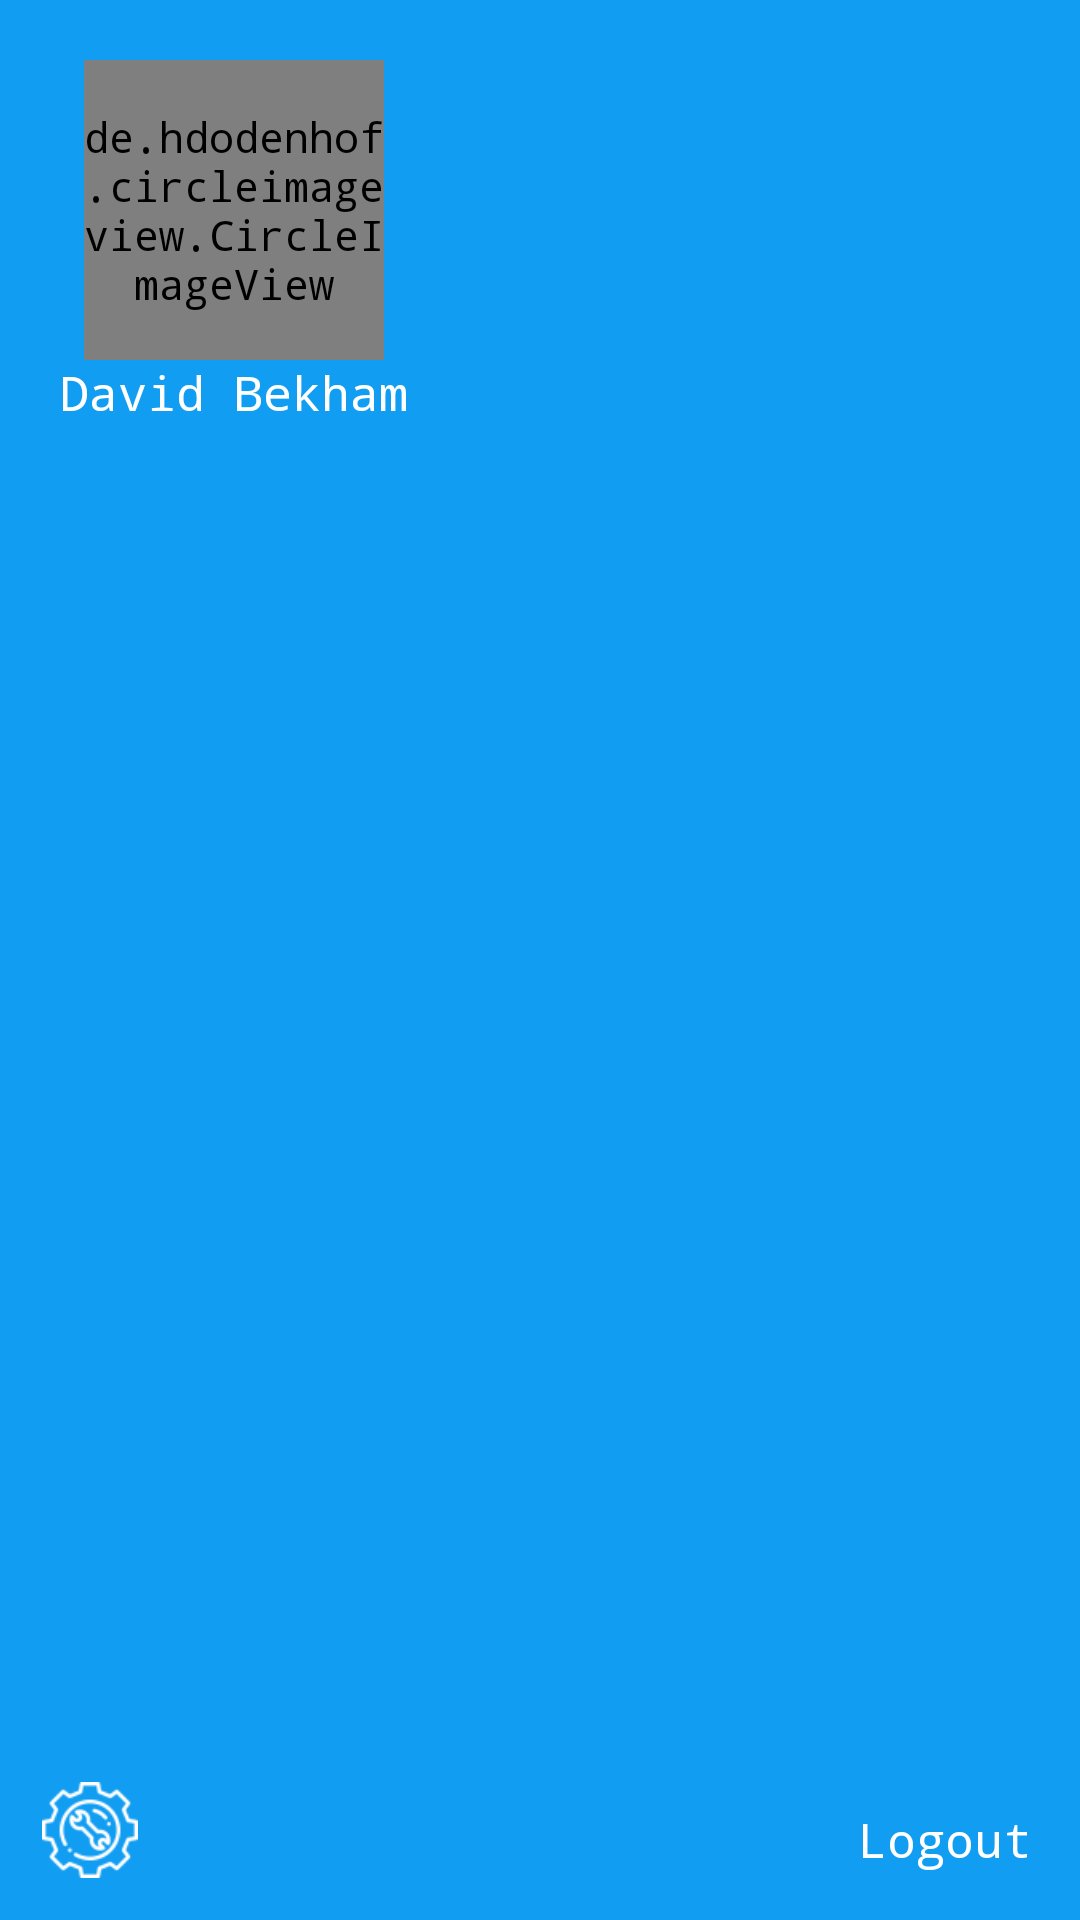

Screen size 1080x1920. Icon name, then its center in pixels as [x,y]:
setting: [90,1830]
